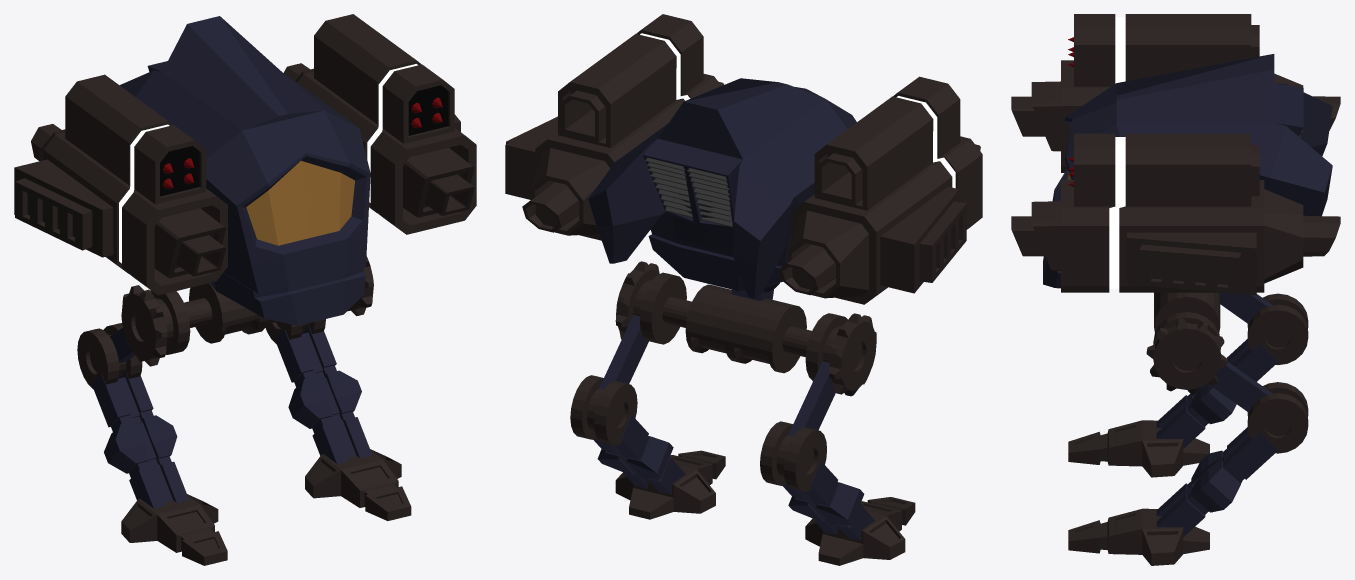
The model's file is MechV5.fbx.
The picture shows the model from 3 angles, left to right: view 1: azimuth 30°, elevation 25°; view 2: azimuth 150°, elevation 25°; view 3: azimuth 270°, elevation 25°; orthographic projection. The views are drawn at different scales.
Parts seen in each view (by area): view 1: Cockpit; view 2: Cockpit; view 3: Cockpit.
Part boxes in pixels (x1=…): Cockpit: x1=14, y1=14, x2=476, y2=565; Cockpit: x1=505, y1=14, x2=982, y2=565; Cockpit: x1=1011, y1=14, x2=1340, y2=565.
Size of what is drawn, in the model's own units: 501 by 515 by 350.
